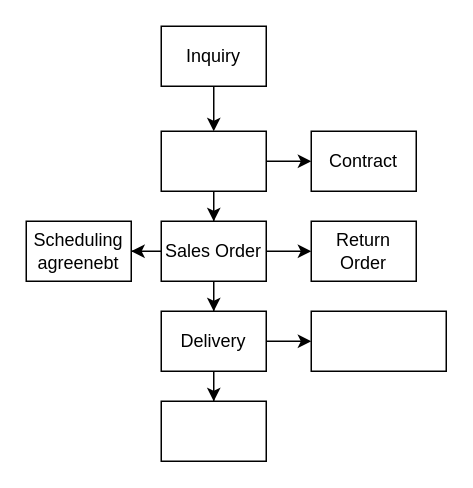
Some shapes in this 473 by 488 pixel diagram are drawn without their labels. Each missing label, with the centre of its shape:
Invoice: [213,430]
Quotaion: [213,160]
transportation: [378,340]
